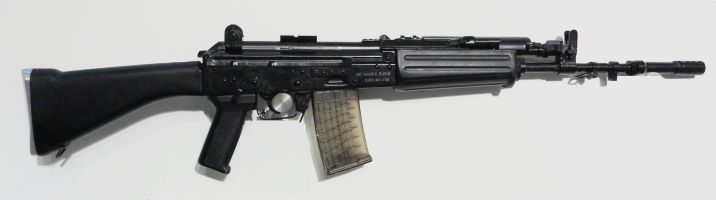rifle: (27, 19, 706, 200)
